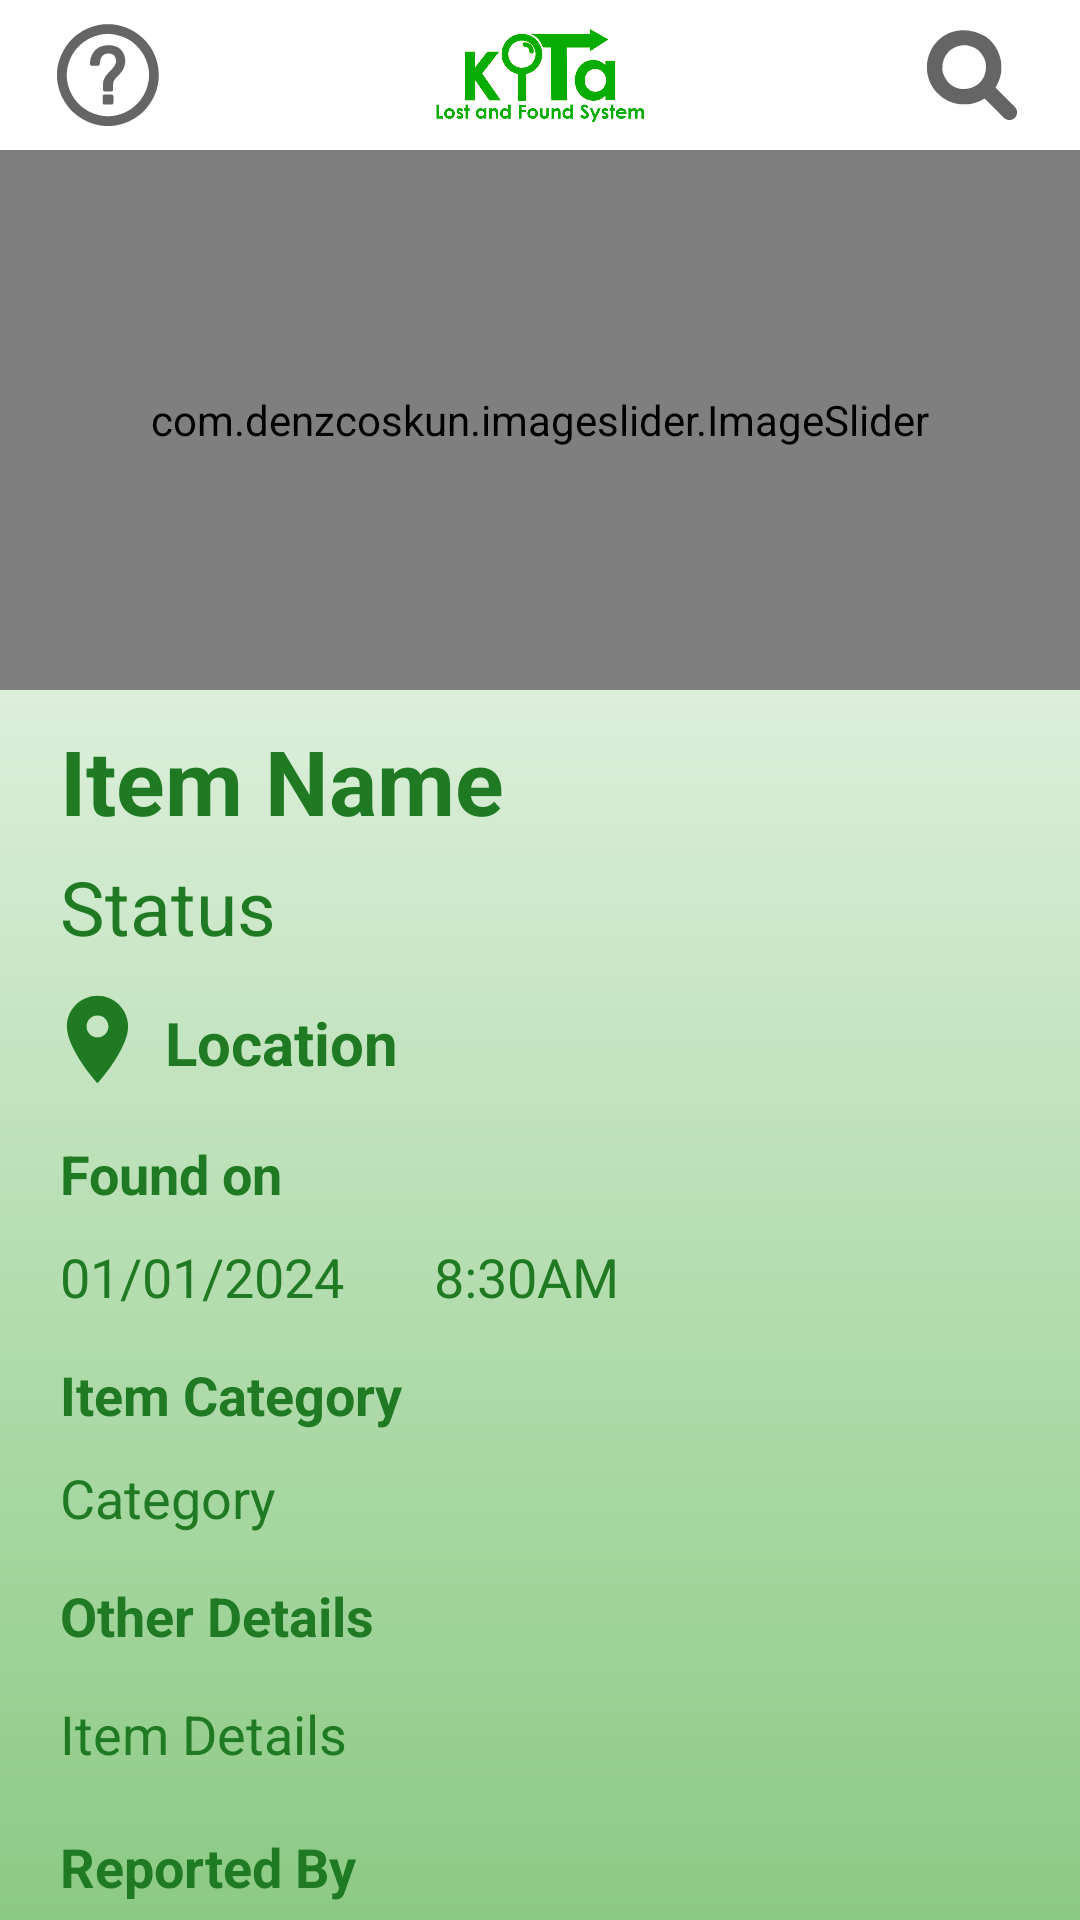

Locate icon controls on the screen. Image size 1080 x 1920, boxes as (x1, y1, x2, y2).
guide: (57, 24, 159, 126)
search: (927, 30, 1017, 120)
